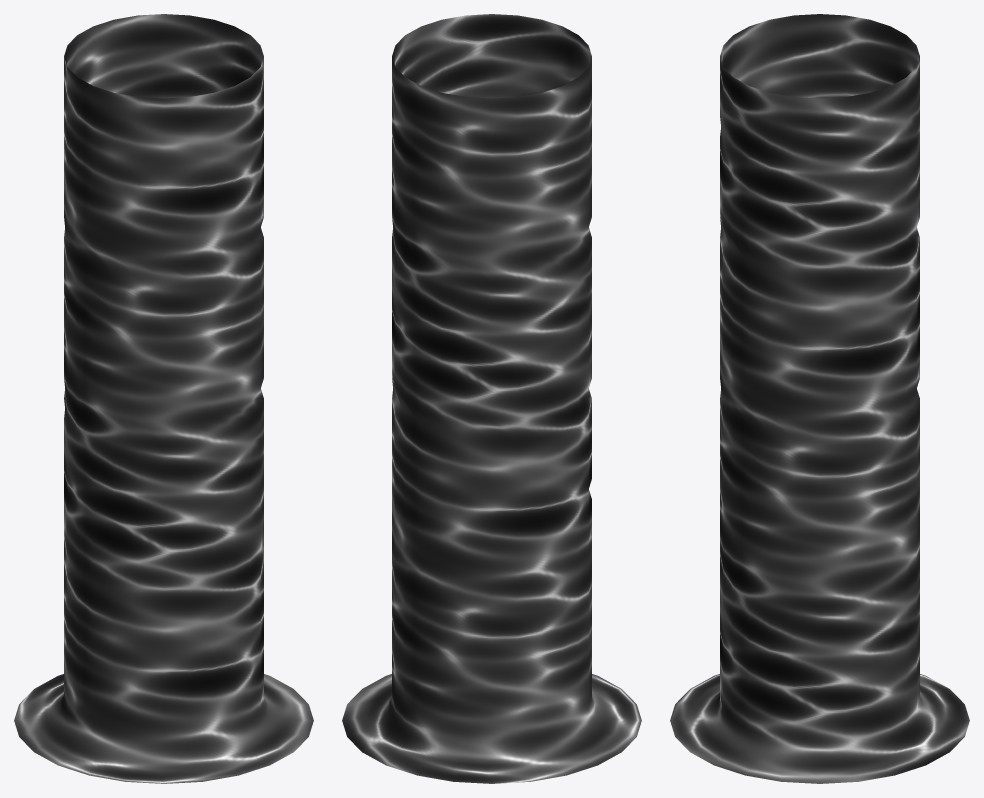
Rendered from eff_Column05.fbx.
3 views of the same model, side by side, from view 1: azimuth 30°, elevation 25°; view 2: azimuth 150°, elevation 25°; view 3: azimuth 270°, elevation 25° (orthographic).
Visible parts, largest first — view 1: eff_Column05_rear_msh, eff_Column05_front_msh; view 2: eff_Column05_front_msh, eff_Column05_rear_msh; view 3: eff_Column05_front_msh, eff_Column05_rear_msh.
Boxes of the visible parts, x1=… form: eff_Column05_rear_msh: x1=34, y1=35, x2=313, y2=783; eff_Column05_front_msh: x1=14, y1=14, x2=293, y2=757; eff_Column05_front_msh: x1=342, y1=35, x2=621, y2=783; eff_Column05_rear_msh: x1=362, y1=14, x2=641, y2=751; eff_Column05_front_msh: x1=804, y1=14, x2=969, y2=783; eff_Column05_rear_msh: x1=670, y1=14, x2=819, y2=783.
Bounding box in the file's own units: 13.5 × 33 × 13.5.
